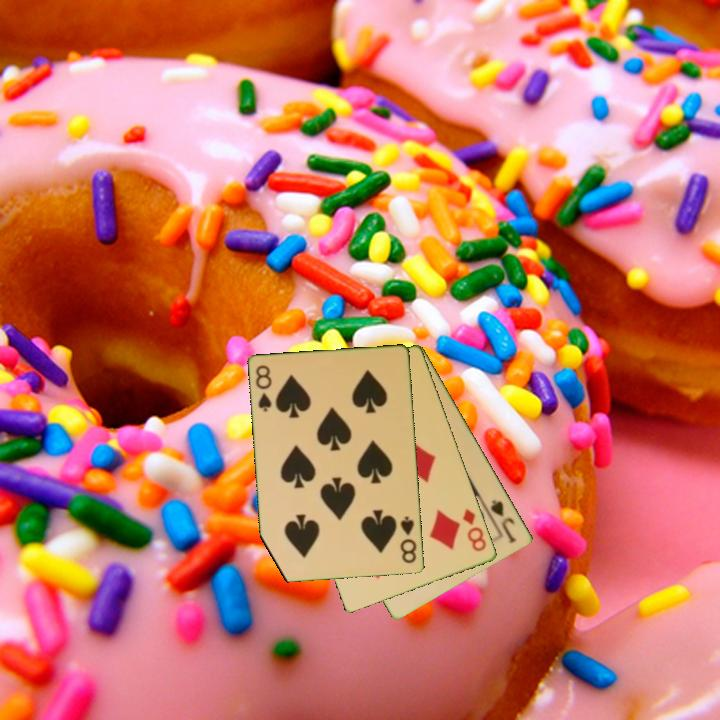8d: (459, 505, 489, 555)
8s: (252, 362, 275, 415), (397, 513, 419, 566)
Js: (487, 496, 520, 546)
